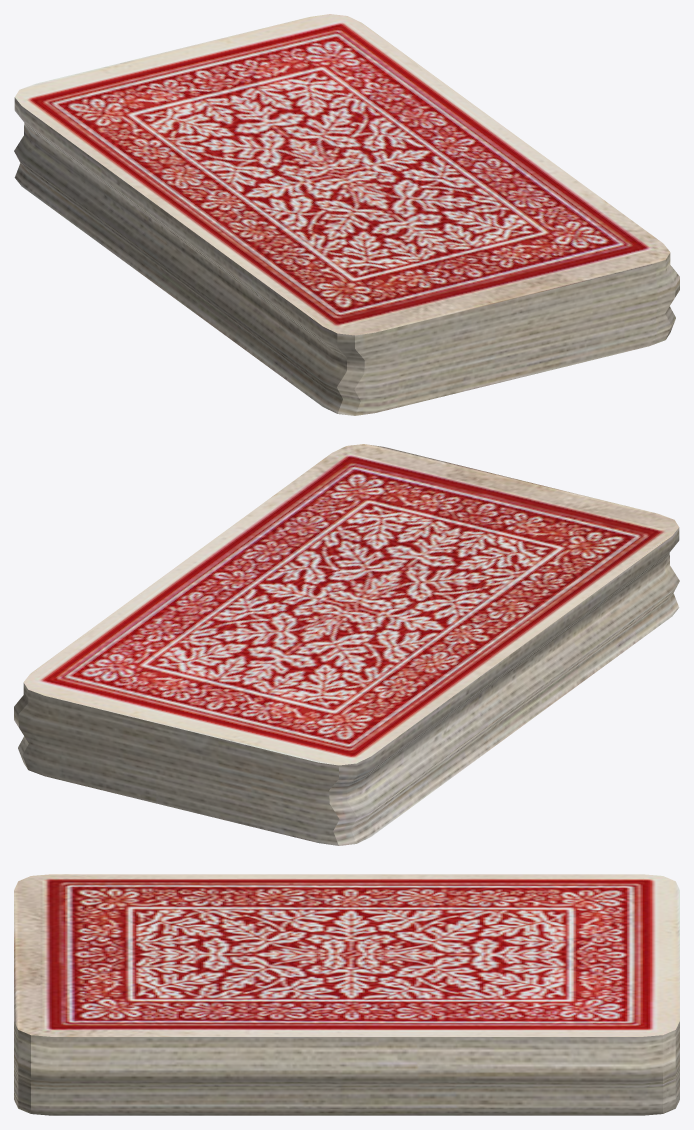
File: cardDeck.FBX
3 renders of one model, top to bottom at view 1: azimuth 30°, elevation 25°; view 2: azimuth 150°, elevation 25°; view 3: azimuth 270°, elevation 25°, orthographic. The views are drawn at different scales.
Parts seen in each view (by area): view 1: Box001; view 2: Box001; view 3: Box001.
Part boxes in pixels (x1=…): Box001: x1=14, y1=14, x2=679, y2=415; Box001: x1=14, y1=444, x2=679, y2=845; Box001: x1=14, y1=874, x2=679, y2=1115.
Bounding box in the file's own units: 6.89 × 1.51 × 11.57.
Materials: 1 (1 with a texture image).
